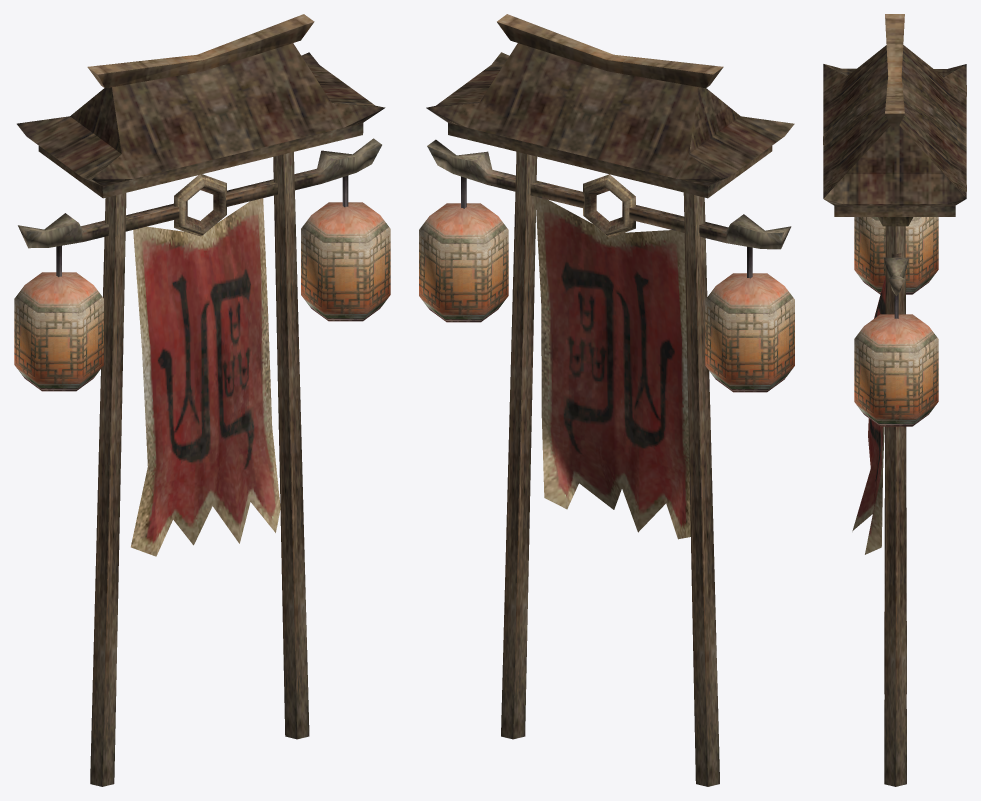
File: desert_lamp01.glb
The picture shows the model from 3 angles, left to right: view 1: azimuth 30°, elevation 25°; view 2: azimuth 150°, elevation 25°; view 3: azimuth 270°, elevation 25°; orthographic projection. The views are drawn at different scales.
Visible parts, largest first — view 1: desert_lamp01; view 2: desert_lamp01; view 3: desert_lamp01.
Boxes of the visible parts, x1,y1,x2,y2 form: desert_lamp01: (14, 14, 390, 786); desert_lamp01: (419, 14, 794, 786); desert_lamp01: (823, 14, 966, 786).
Size of the model in its own units: 2.13 by 4.06 by 0.7858.
Materials: 1 (1 with a texture image).
